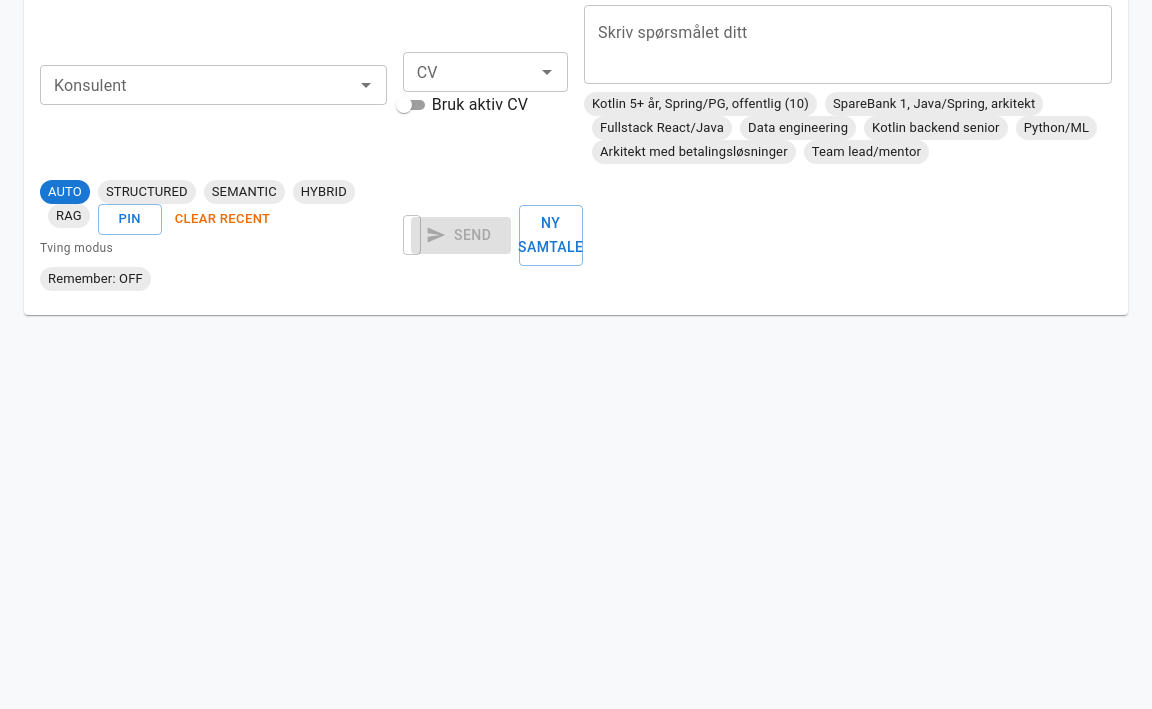
it: ChatSearchTab - HYBRID scoring display › viser scoring-vekter/formel og viser scoring i debug accordion
The image size is (1152, 709).
// Skriv inn tekst
Step 1. Type "kotlin spring" into the text box labelled "Skriv spørsmålet ditt" → [848, 44], box [598,22,1098,68]
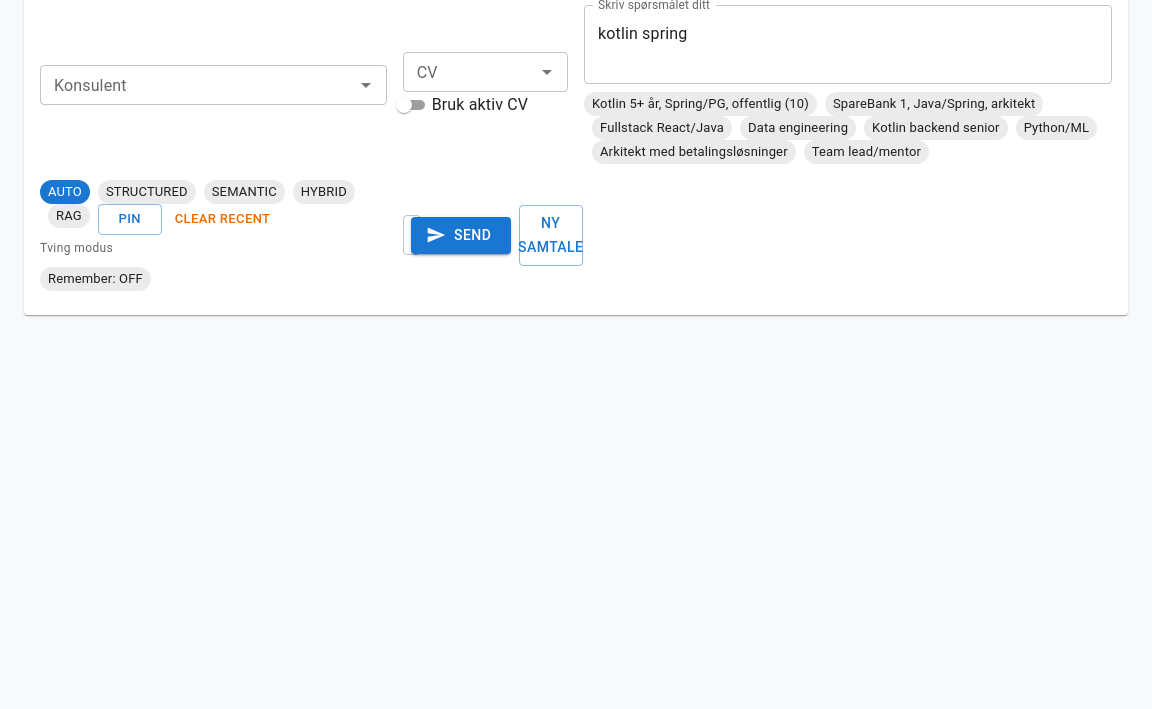
// Klikk Send
Step 2. Click the button "Send" → [461, 235], box [411,217,511,254]
(page scrolled)
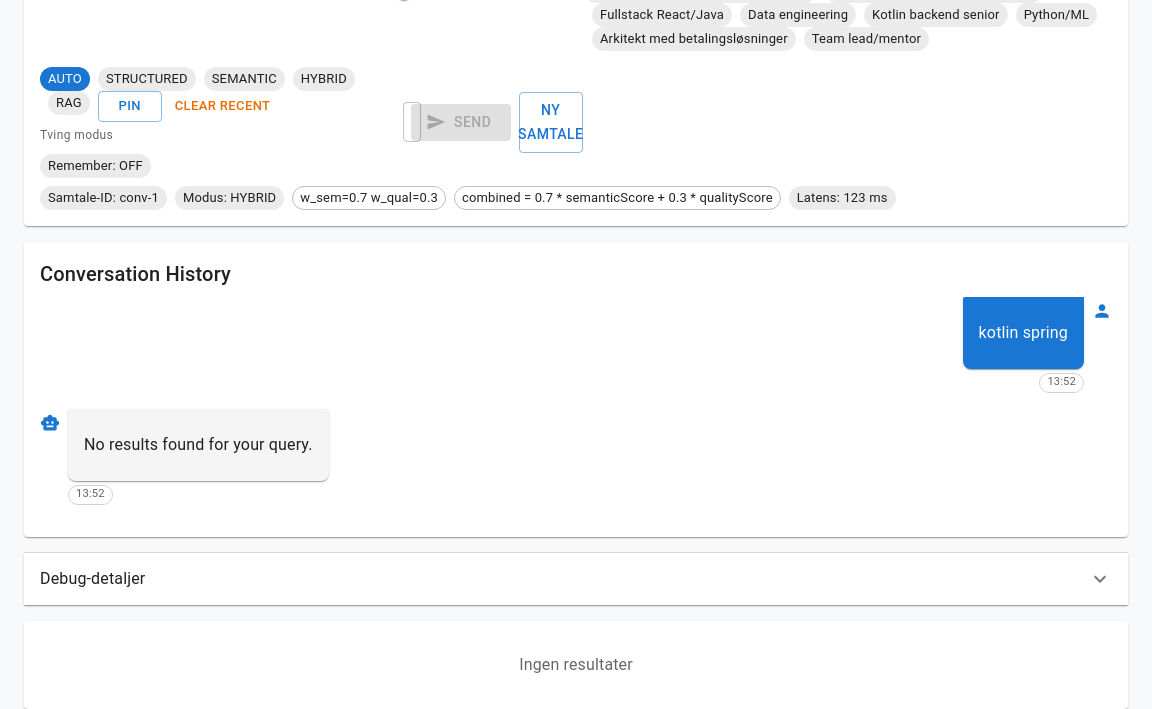
Check: the text "Modus: HYBRID" is shown, box [175,188,284,208]
Check: the text "w_sem=0.7 w_qual=0.3" is shown, box [293,188,445,208]
Check: the text "combined = 0.7 * semanticScore + 0.3 * qualityScore" is shown, box [455,188,780,208]
// Åpne debug-accordion
Step 3. Click the button "Debug-detaljer" → [93, 578], box [40,567,1112,591]
(page scrolled)
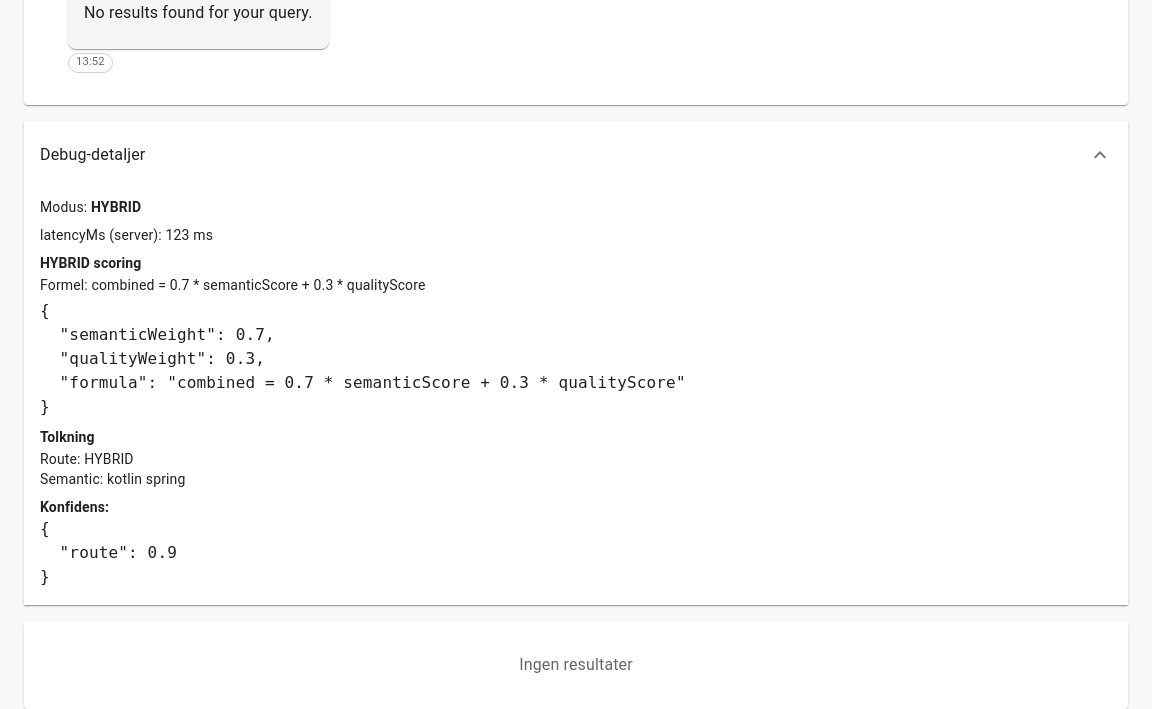
Check: the heading "HYBRID scoring" is shown, box [40,255,141,271]
Check: the text "qualityWeight" is shown, box [40,301,686,416]
